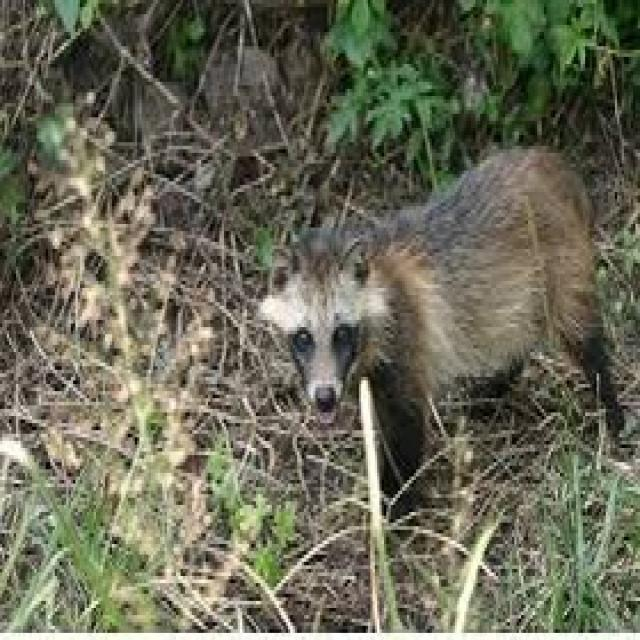racoon: (263, 143, 621, 497)
